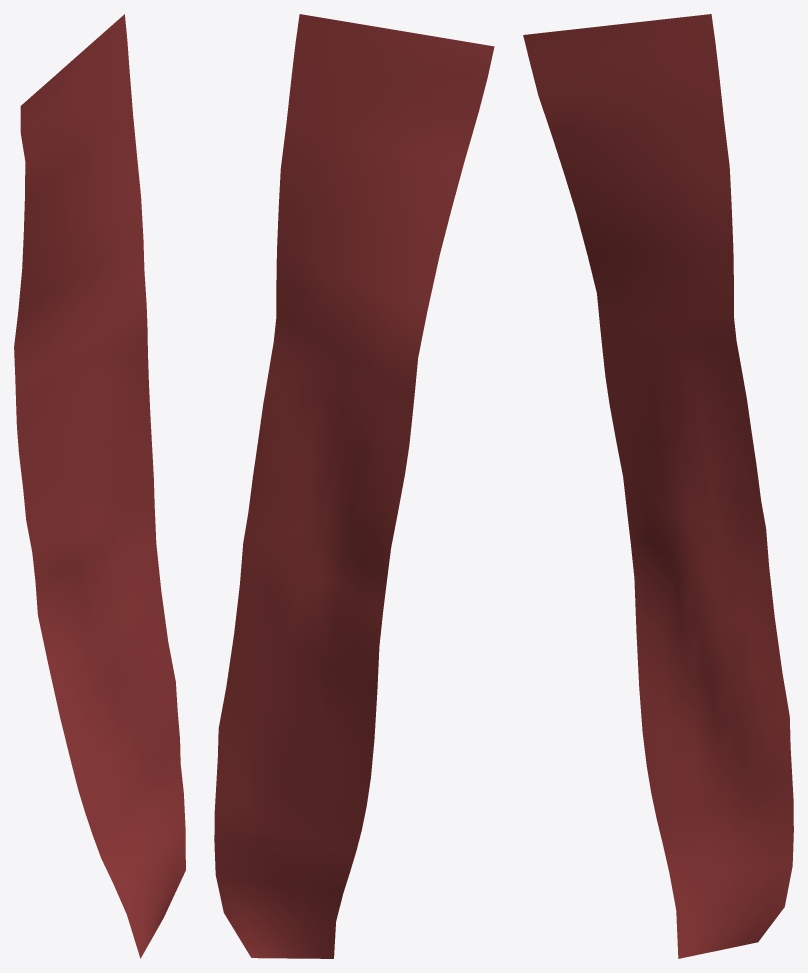
The model's file is medial-intermuscular-septum-of-arm-l.glb.
3 views of the same model, side by side, from view 1: azimuth 30°, elevation 25°; view 2: azimuth 150°, elevation 25°; view 3: azimuth 330°, elevation 25° (orthographic). The views are drawn at different scales.
Visible parts, largest first — view 1: Medial intermuscular septum of arm.l; view 2: Medial intermuscular septum of arm.l; view 3: Medial intermuscular septum of arm.l.
Boxes of the visible parts, x1,y1,x2,y2 form: Medial intermuscular septum of arm.l: [14, 14, 185, 958]; Medial intermuscular septum of arm.l: [214, 14, 494, 958]; Medial intermuscular septum of arm.l: [523, 14, 793, 958].
Bounding box in the file's own units: 0.0347 × 0.1416 × 0.0153.
